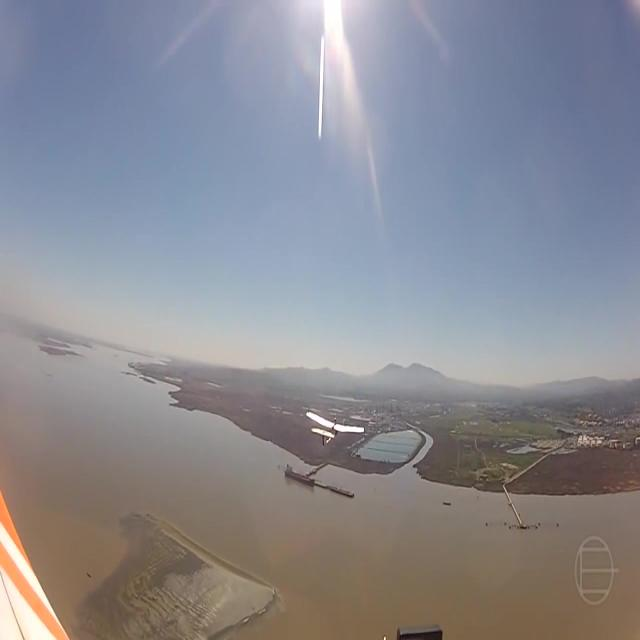iha: (305, 410, 365, 447)
